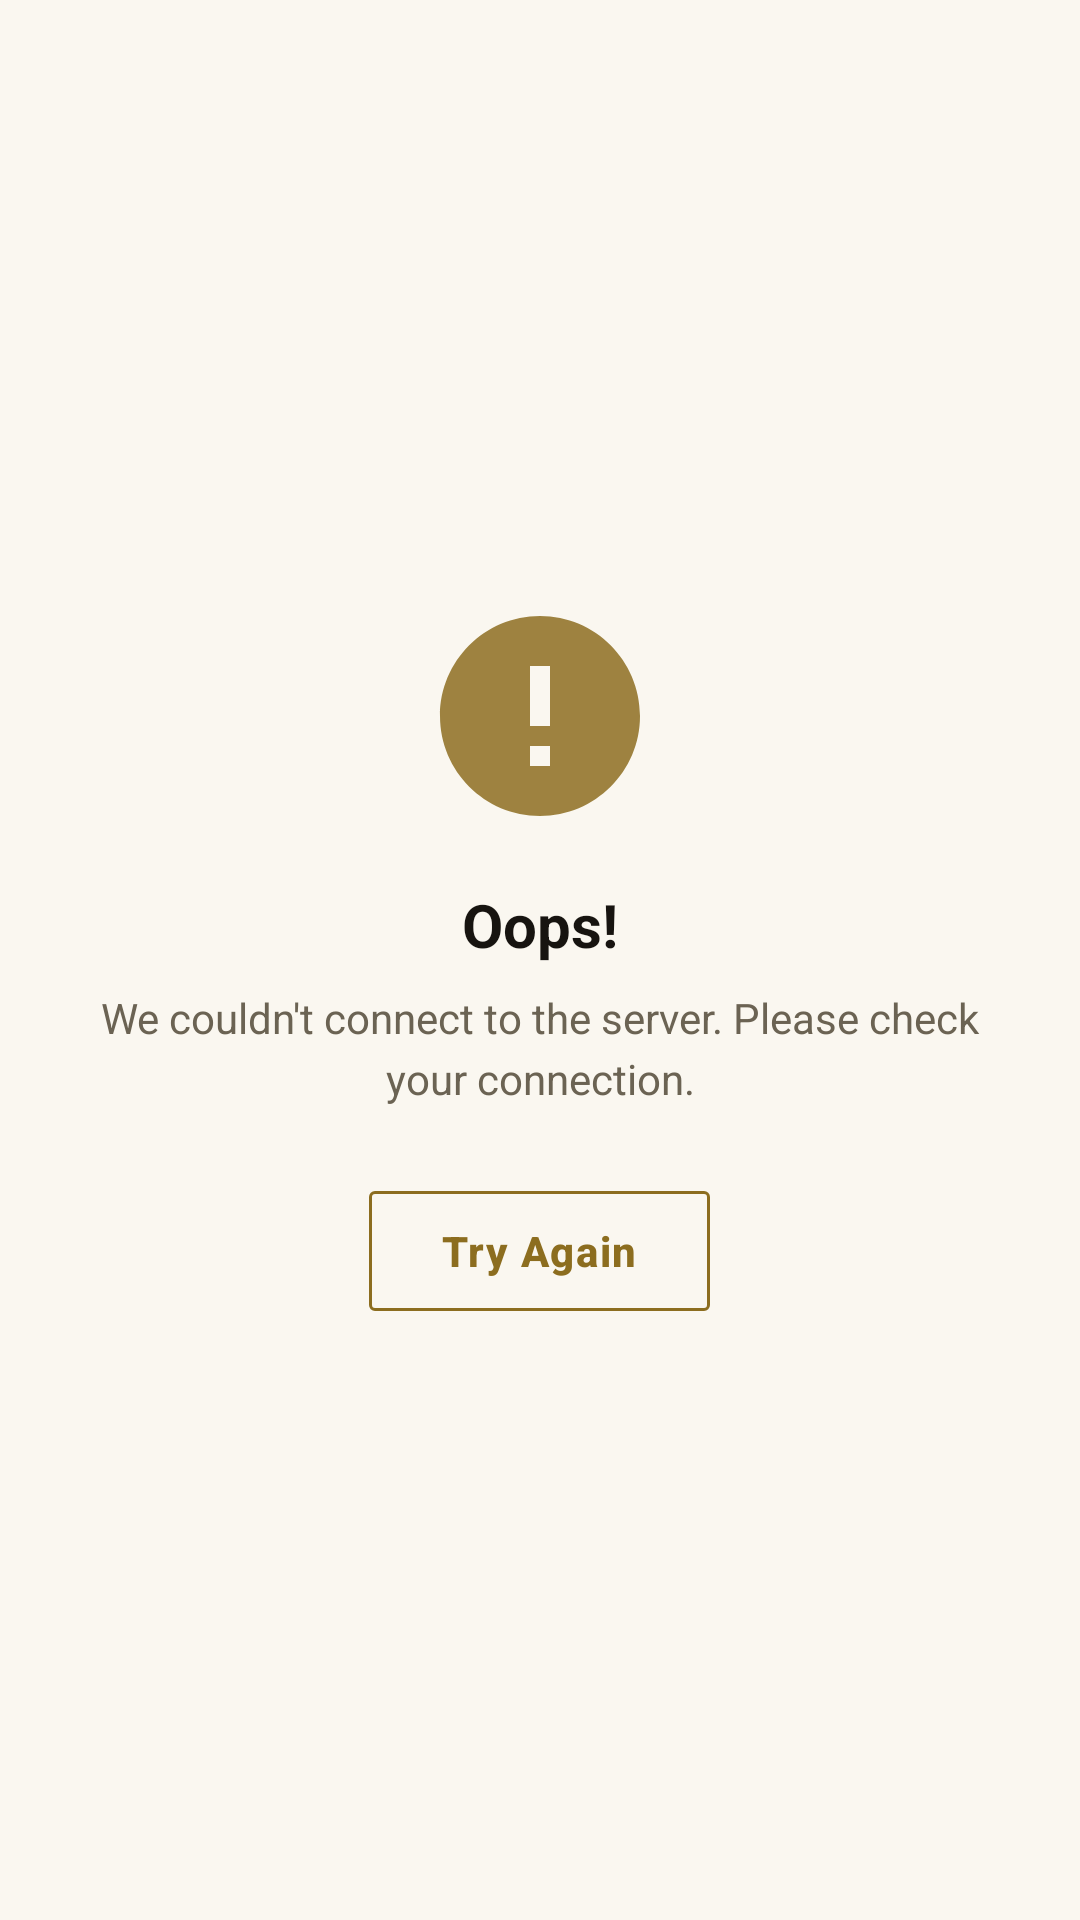

Icons on this 1080*1920 Android screen, each with the point to tap as [x,y]:
error state: [540,716]
